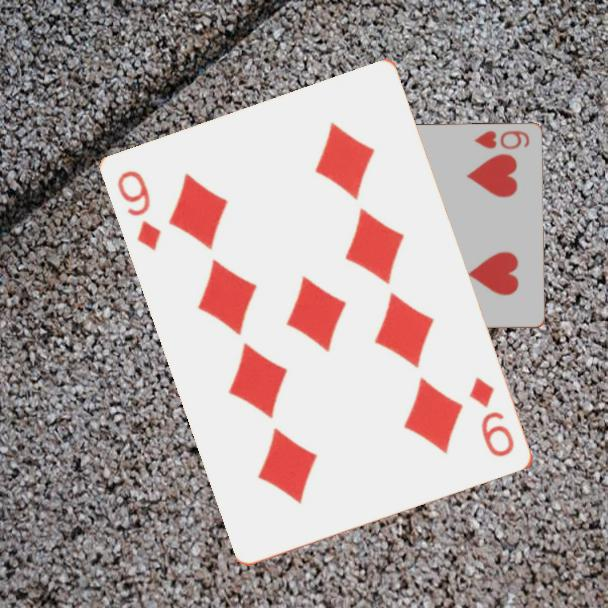d09: (466, 374, 518, 460), (114, 167, 165, 254)
h06: (470, 127, 532, 152)
